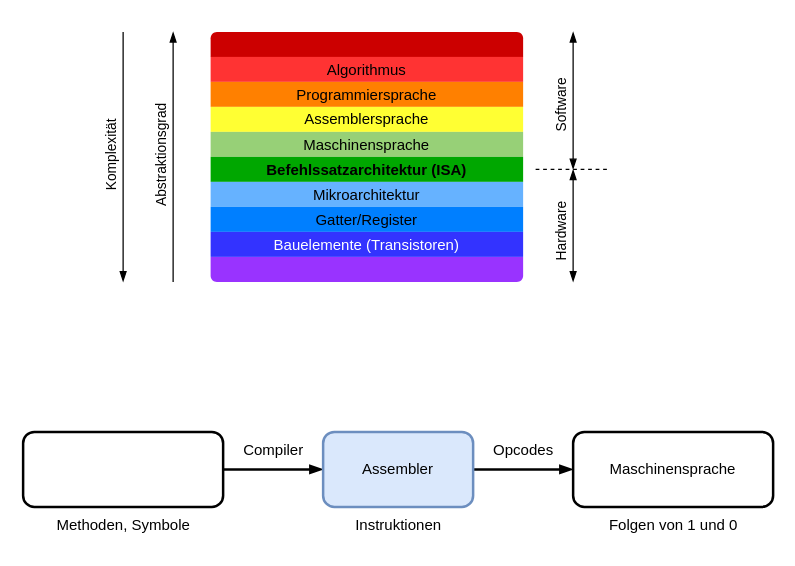
Image size: 795x566. Some labels were removed from this diagram. Each missing label, with the box of its shape:
Anwendung: (210, 31, 522, 56)
Höhere Programmiersprache: (21, 430, 224, 508)
Physik: (210, 256, 522, 281)
